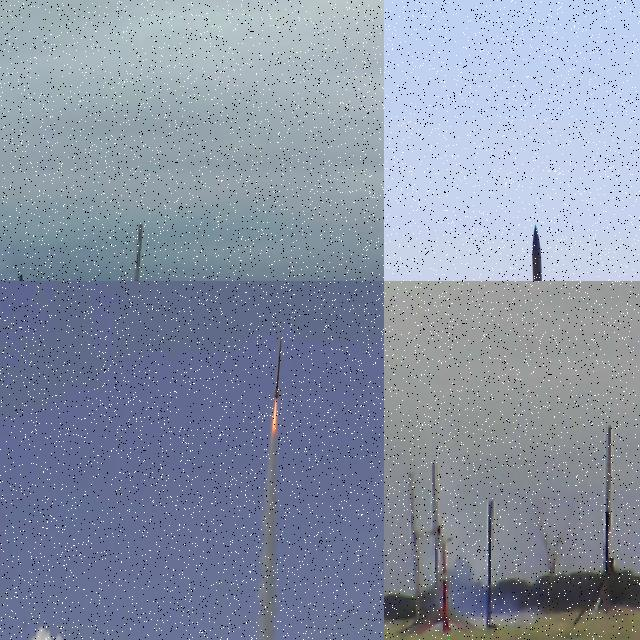Rocket: (522, 223, 555, 281), (274, 336, 282, 399)
